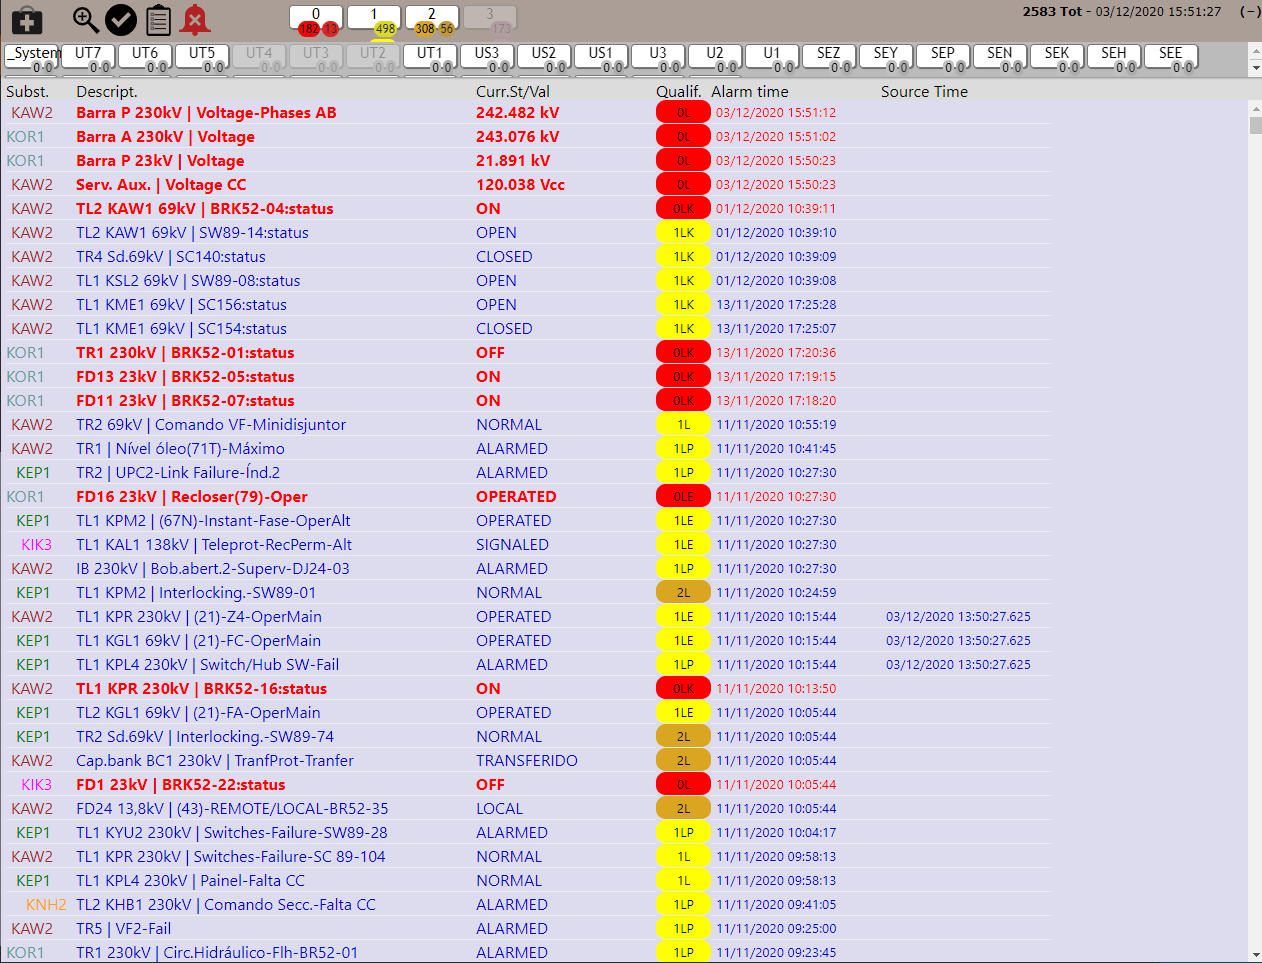

Layout of this report page (visuals, bound fields, positions):
{"tool":"powerbi","page":{"name":"Página 2","canvas":[1280,720],"ordinal":1},"visuals":[{"type":"tableEx","fields":{"Values":["public realtime_data.tag","public realtime_data.json_data.value","public realtime_data.json_data.valueString","public realtime_data.json_data.unit","public realtime_data.json_data.invalid","public realtime_data.json_data.type","public realtime_data.json_data.group2","public realtime_data.json_data.group1","public realtime_data.json_data.description","public realtime_data.json_data.alarmed"]},"box":[10.3,0,1249,696],"z":0}]}

Visuals, with their boxes on the page's 1280x720 design canvas (x1, y1, x2, y2). These are canvas units, not pixel positions in the 1262x963 screenshot, which may show the page scaled, cropped or inside an application window:
tableEx - public realtime_data.tag x public realtime_data.json_data.value: (10,0,1259,696)
